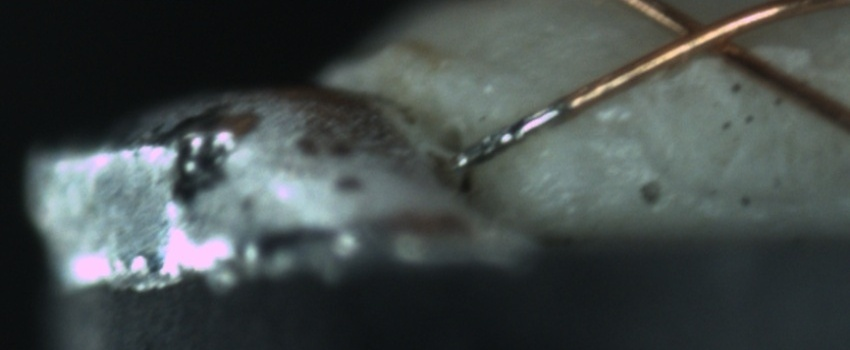CL: (641, 0, 769, 72)
TS: (448, 100, 559, 171)
